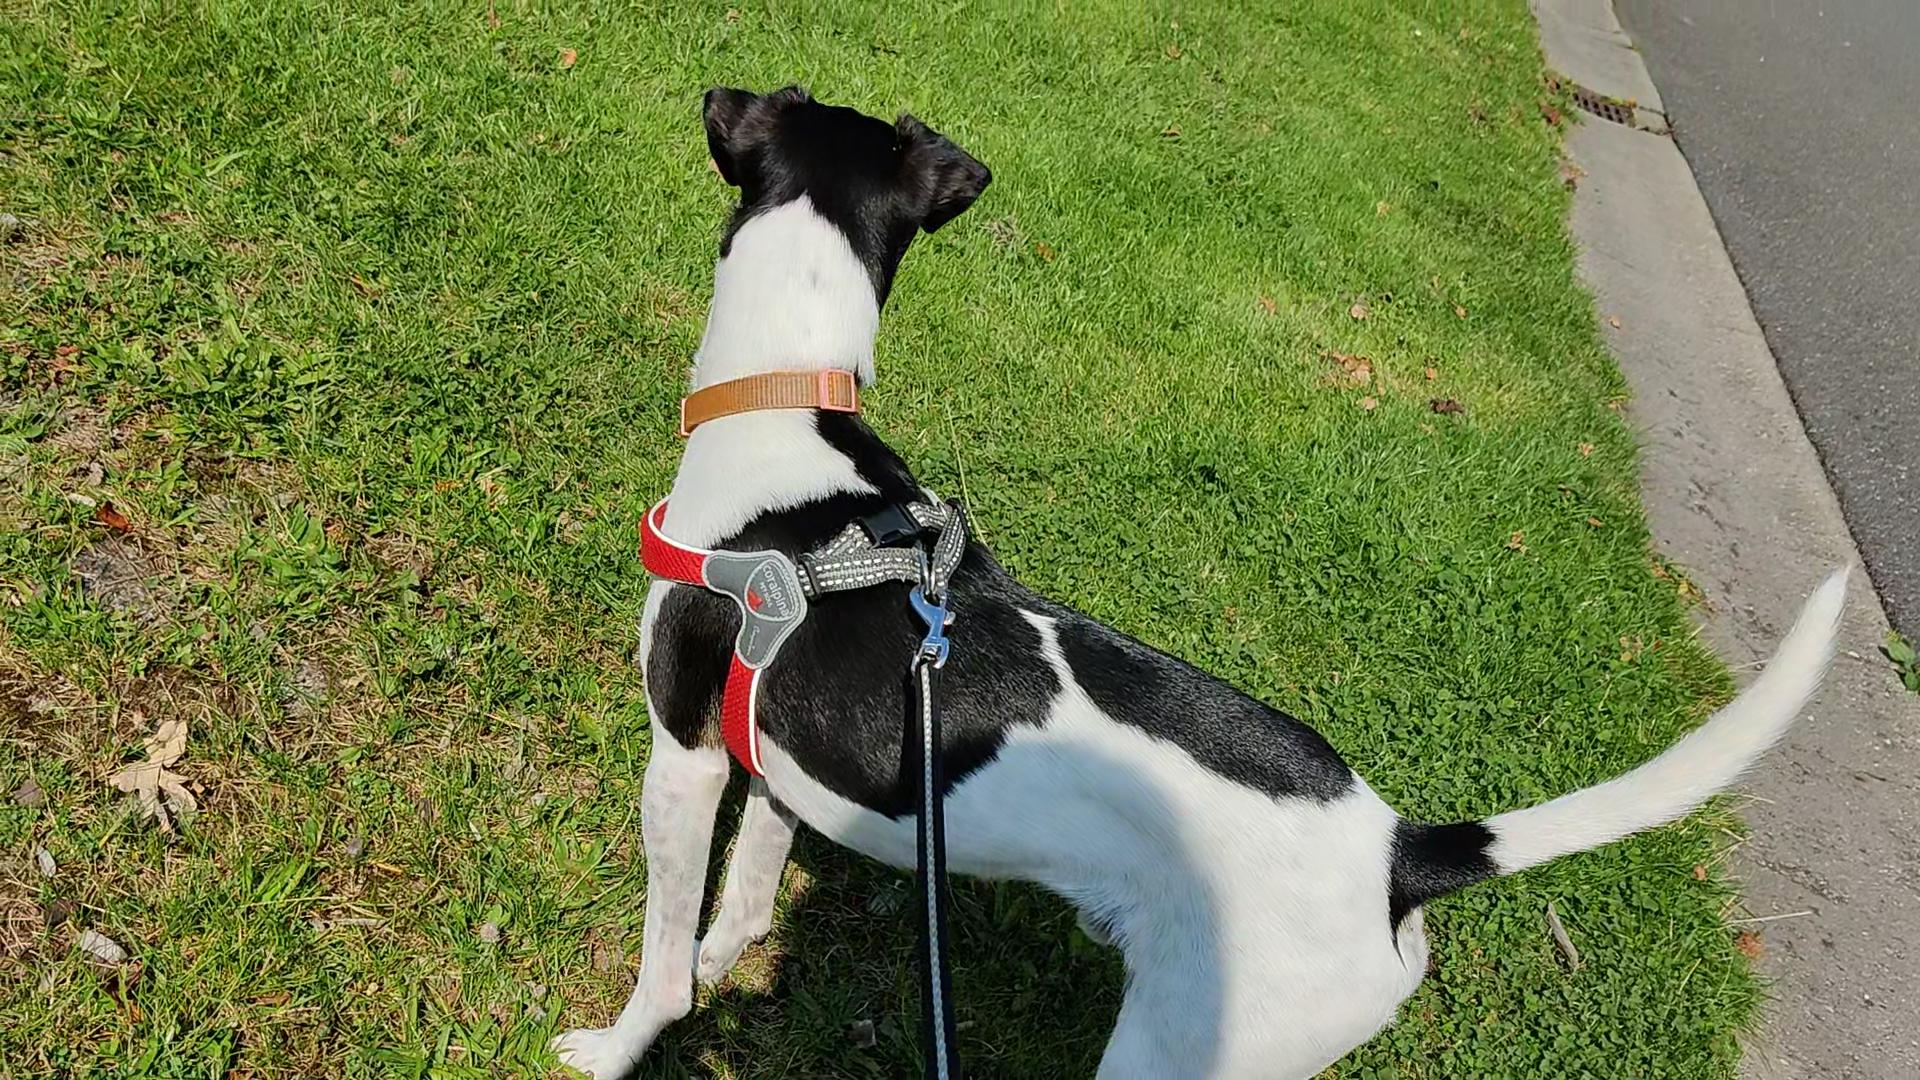Dog: (534, 80, 1863, 1079)
